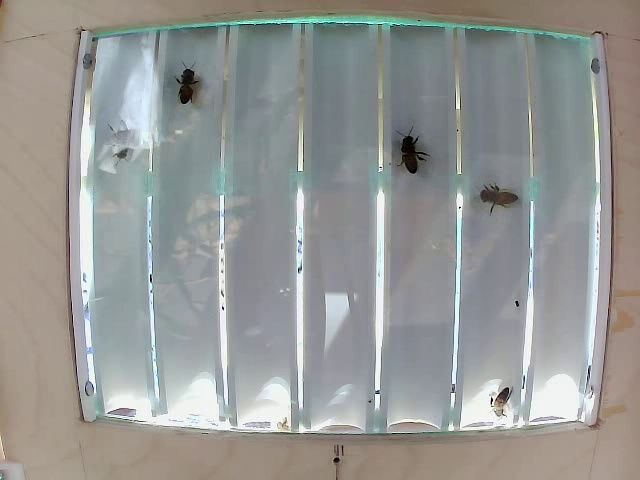bee: (381, 135, 427, 174), (164, 68, 205, 109), (470, 178, 516, 210), (106, 121, 138, 160), (485, 391, 522, 422)
